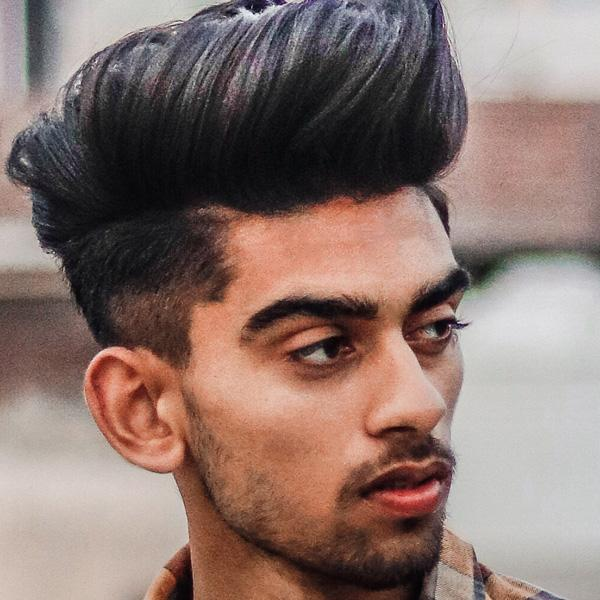Eyes: (272, 320, 362, 376), (400, 296, 463, 359)
